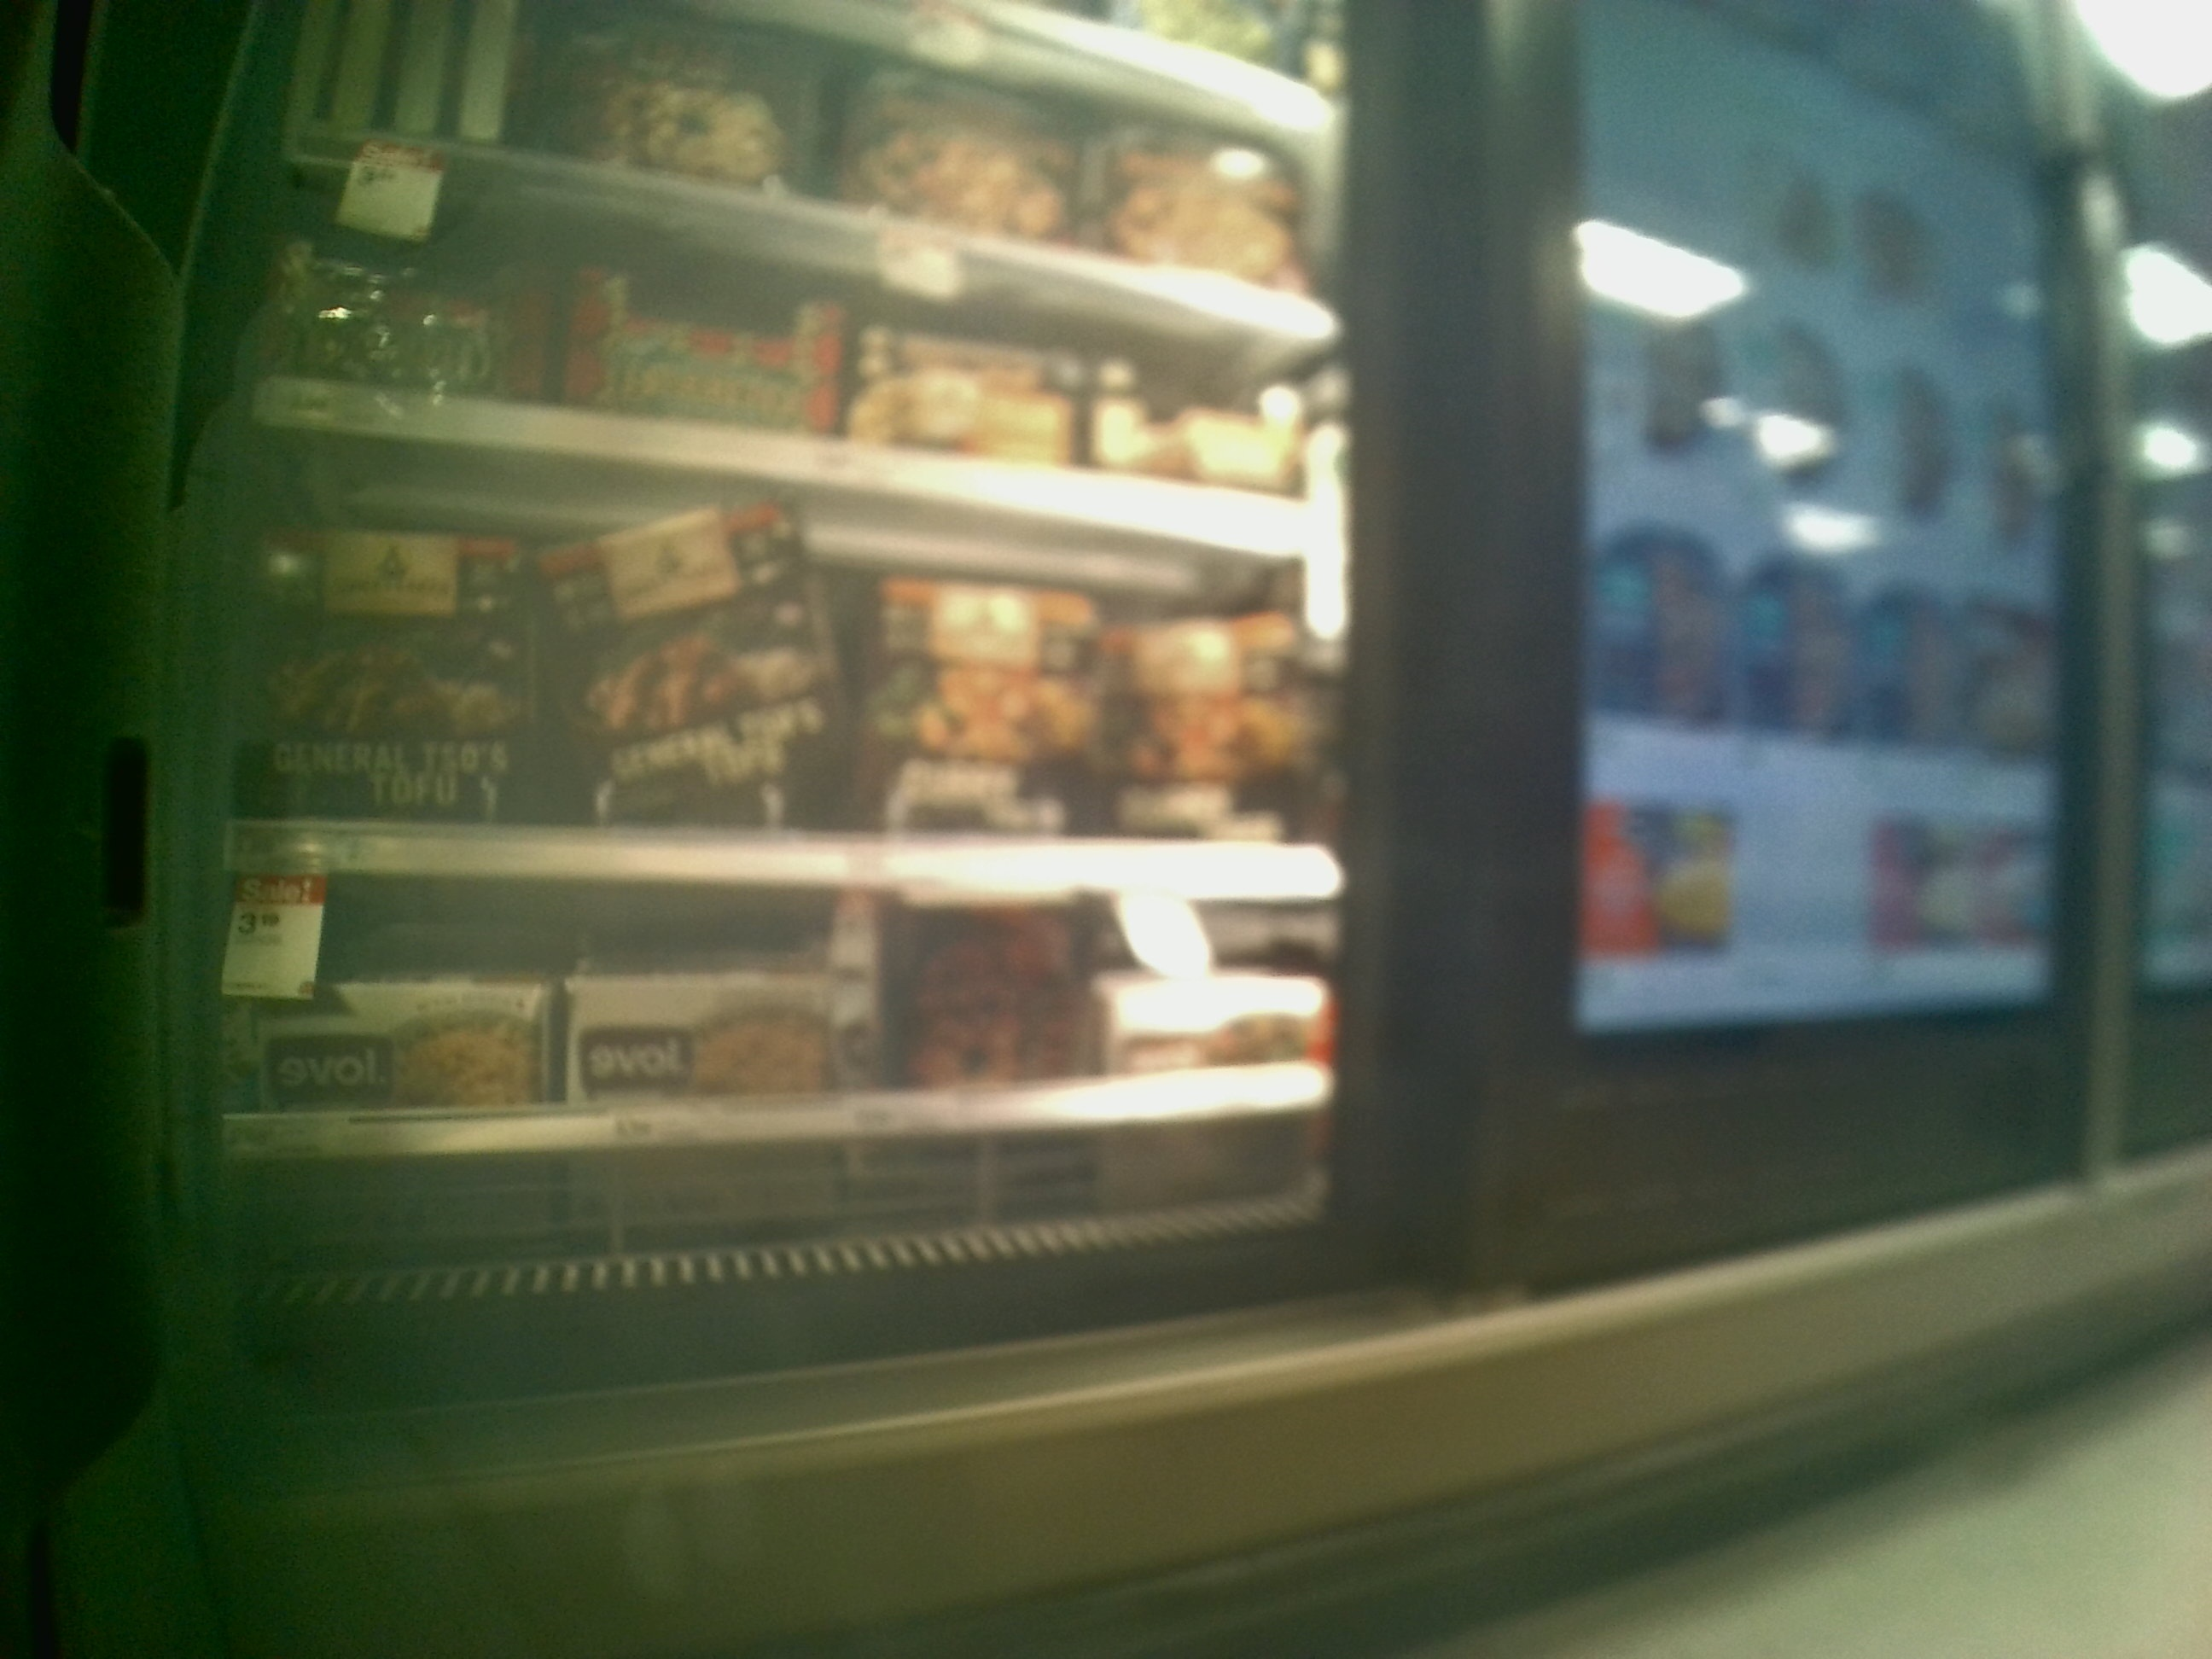frozen-food-shelf: (228, 502, 1360, 904), (209, 910, 1374, 1161)
